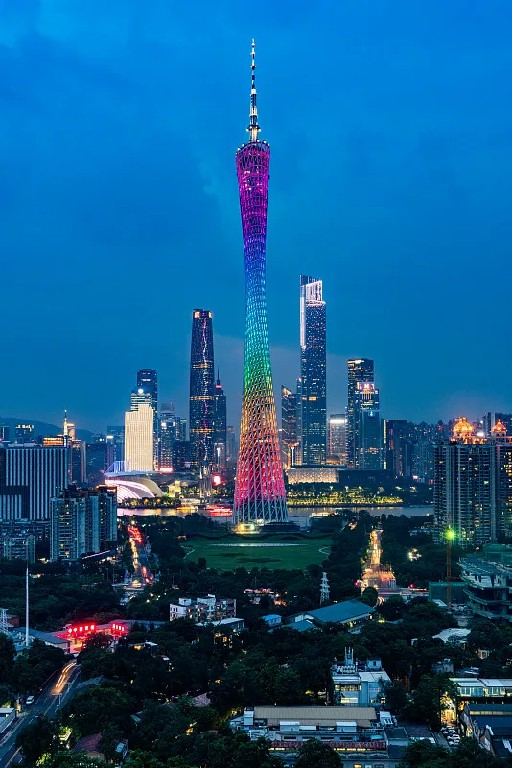Canton: (232, 37, 293, 524)
